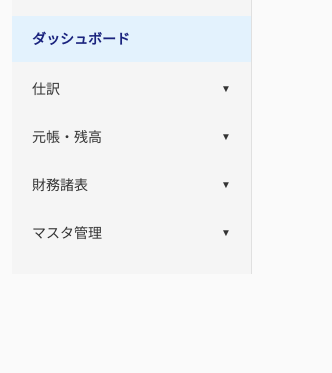
Test: Sidebar › submenu behavior › adds is-open class to arrow when expanded
Click the text "仕訳" at (46, 89), box [32,81,60,97]
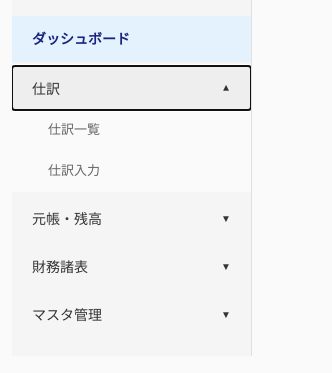
Check: the 2nd text with class "is-open" is shown, box [221,83,231,94]
